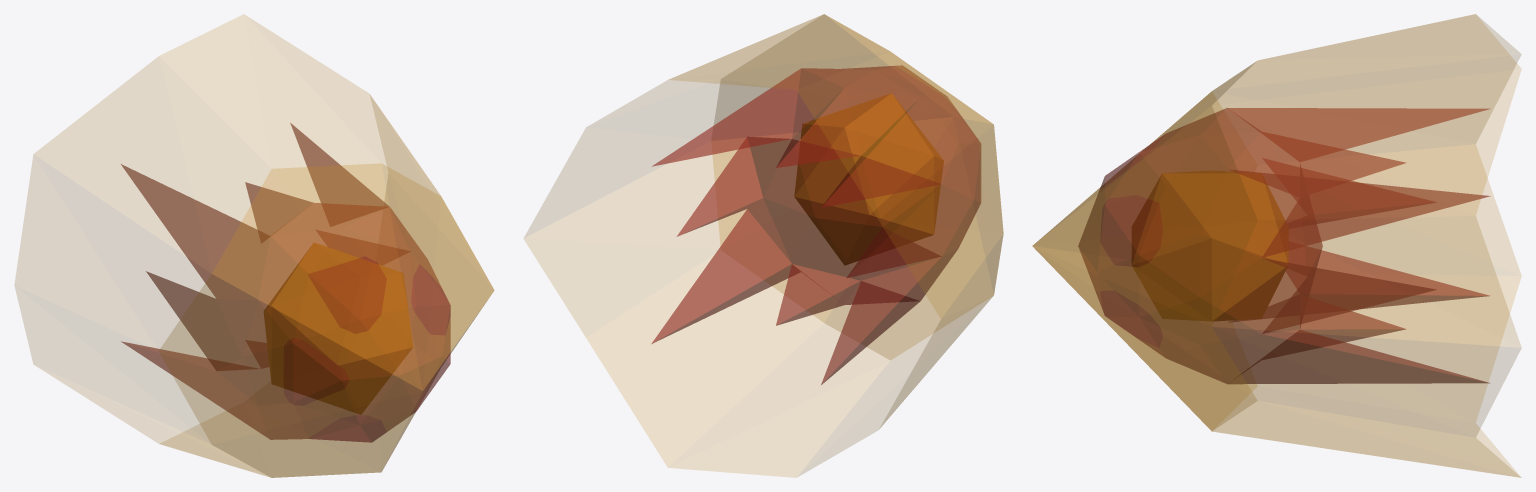
File: jad_mage_front.glb
3 views of the same model, side by side, from view 1: azimuth 30°, elevation 25°; view 2: azimuth 150°, elevation 25°; view 3: azimuth 270°, elevation 25° (orthographic). The views are drawn at different scales.
Bounding box in the file's own units: 126 × 118 × 128.
Materials: 2 (2 with a texture image).
